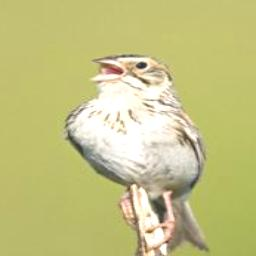Sparrow: (58, 52, 215, 256)
